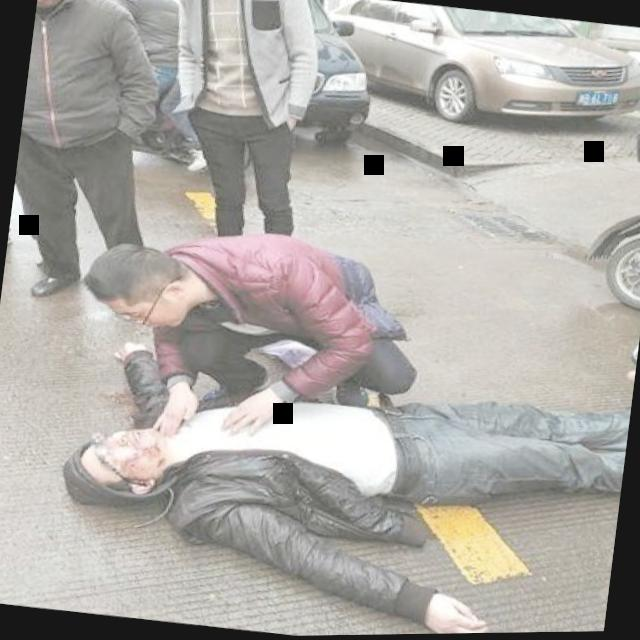Fall-Detected: (12, 298, 635, 640)
